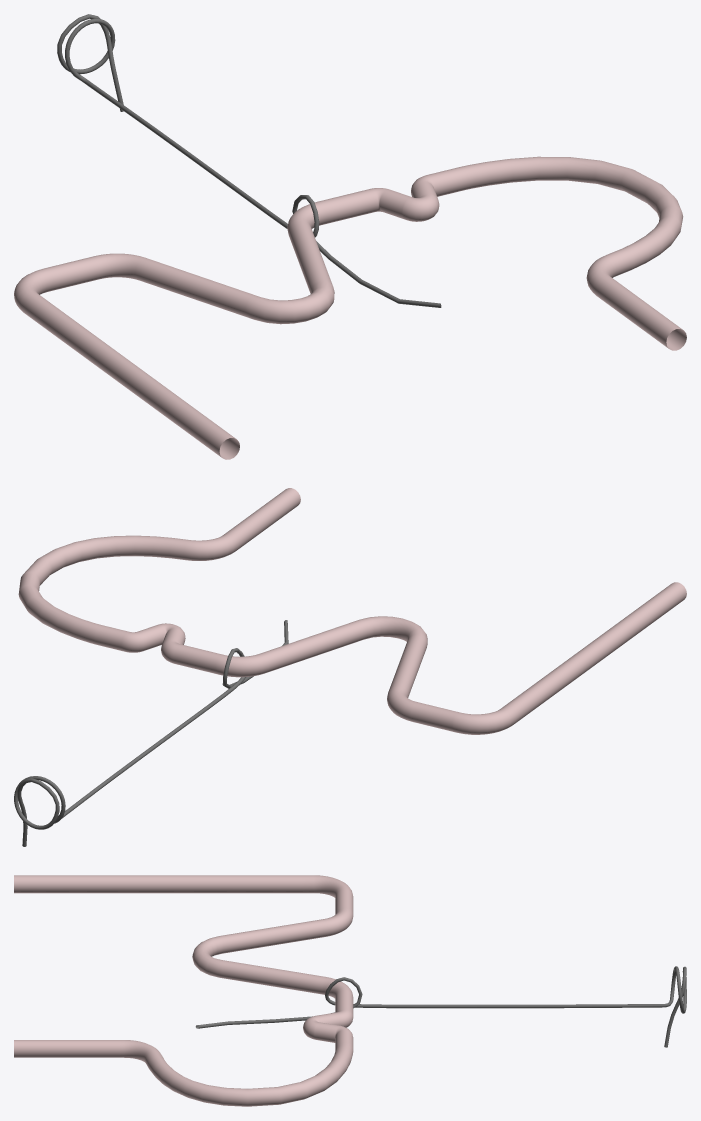
Rendered from rope-mp.obj.
The picture shows the model from 3 angles, top to bottom: view 1: azimuth 30°, elevation 25°; view 2: azimuth 150°, elevation 25°; view 3: azimuth 270°, elevation 25°; orthographic projection. The views are drawn at different scales.
Parts seen in each view (by area): view 1: wire-MP, rope; view 2: wire-MP, rope; view 3: wire-MP, rope.
Boxes of the visible parts, x1,y1,x2,y2 form: wire-MP: [14, 156, 686, 459]; rope: [57, 14, 441, 307]; wire-MP: [18, 488, 686, 734]; rope: [14, 620, 288, 846]; wire-MP: [14, 875, 353, 1106]; rope: [195, 966, 686, 1047].
Size of the model in its own units: 6.54 by 0.9666 by 8.41.
